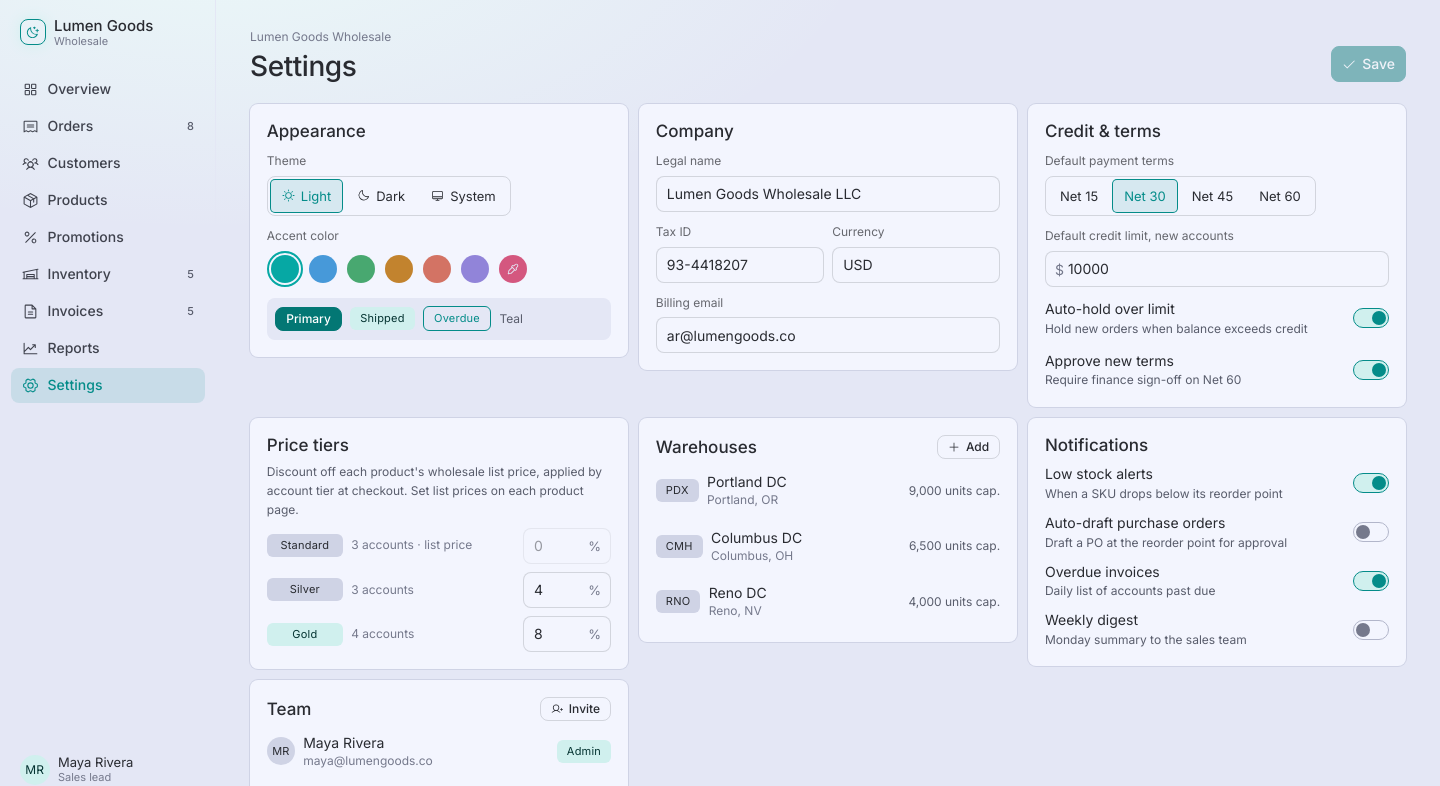
Test: settings save › dismisses a toast on request
Click the switch named "Weekly digest" at (1371, 630), box [1353,620,1389,640]
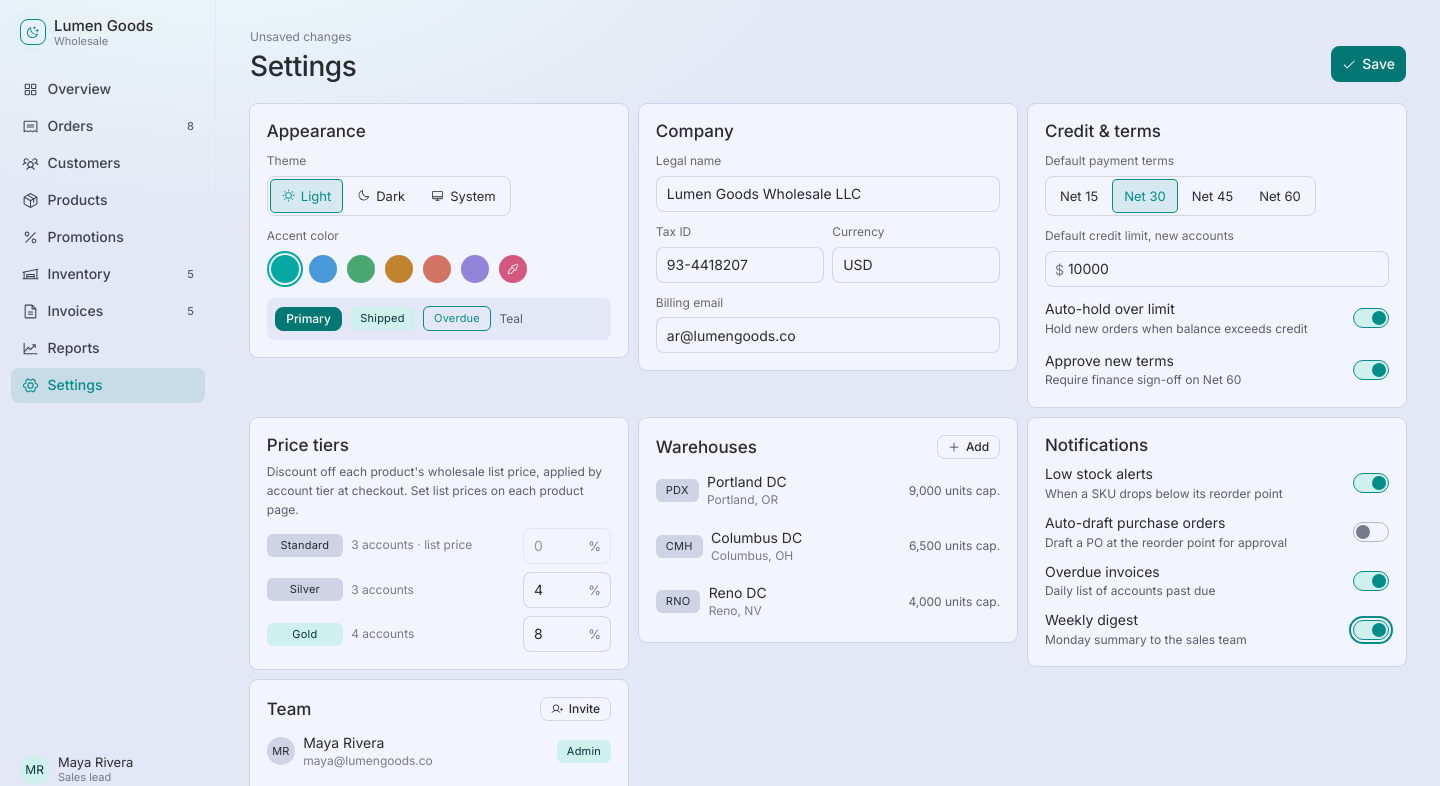
Click the button "Save" at (1369, 64), box [1331,46,1406,82]
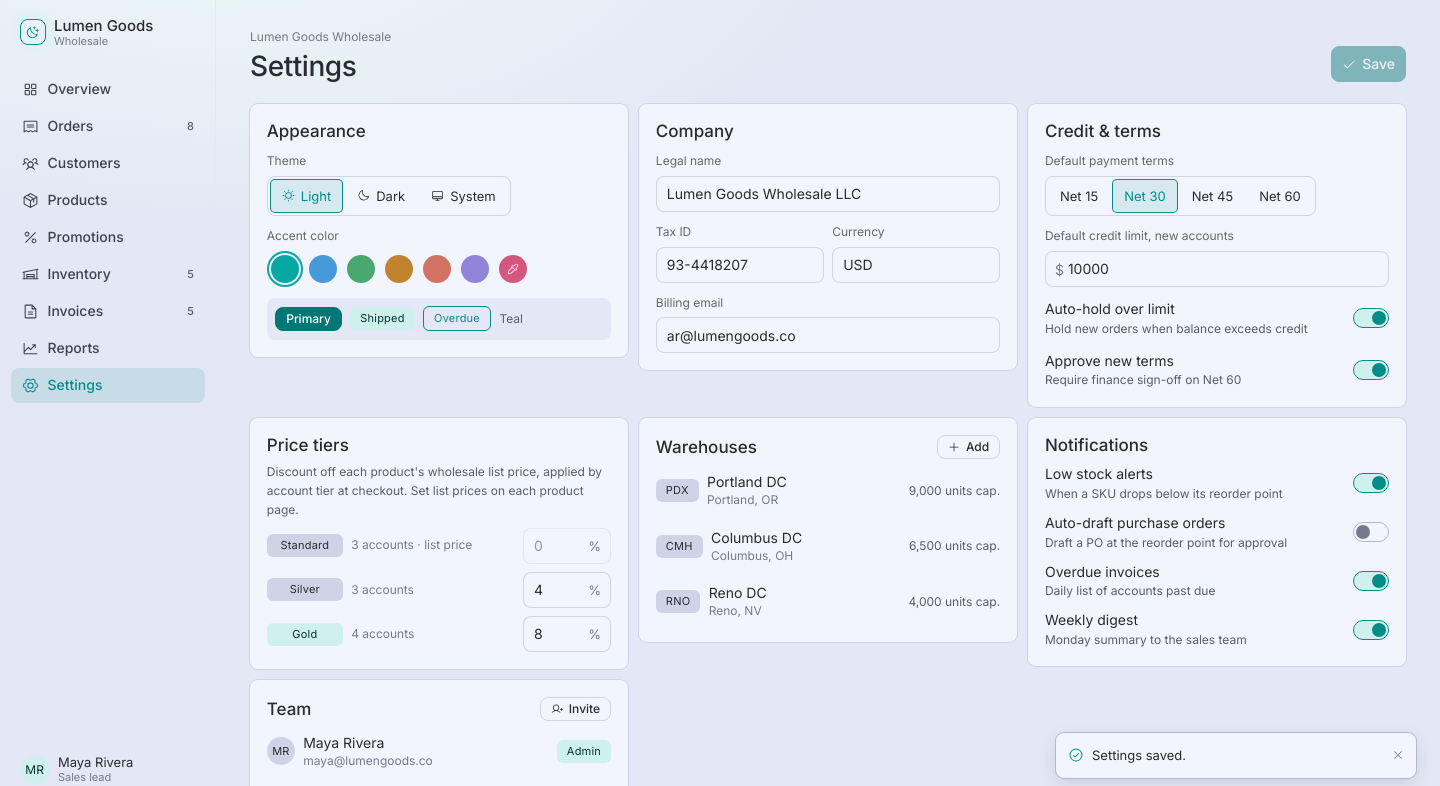
Check: the text "Settings saved." is shown, box [1092,747,1186,763]
Click the button named "Dismiss" at (1398, 755), box [1388,743,1408,768]
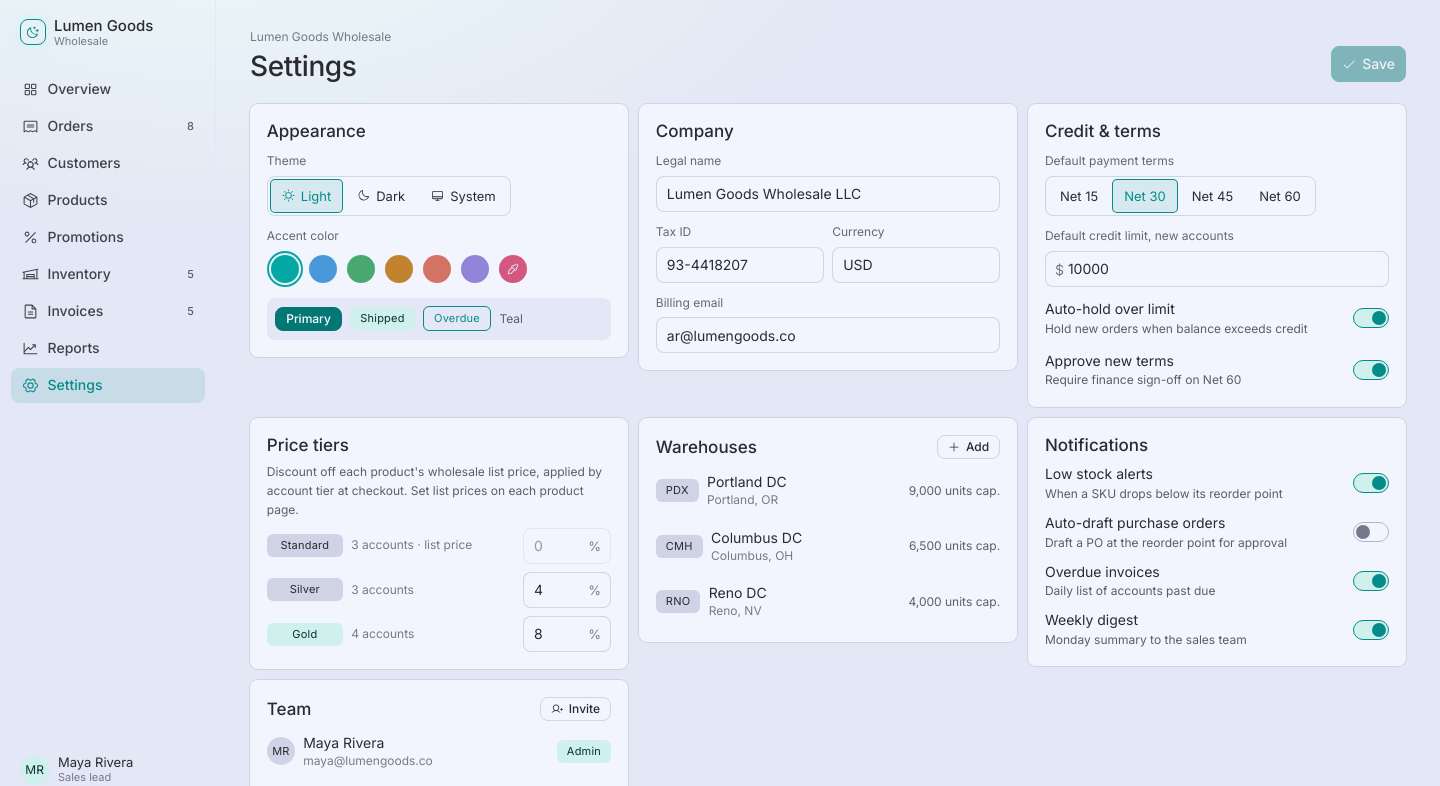
Check: the text "Settings saved." is gone
